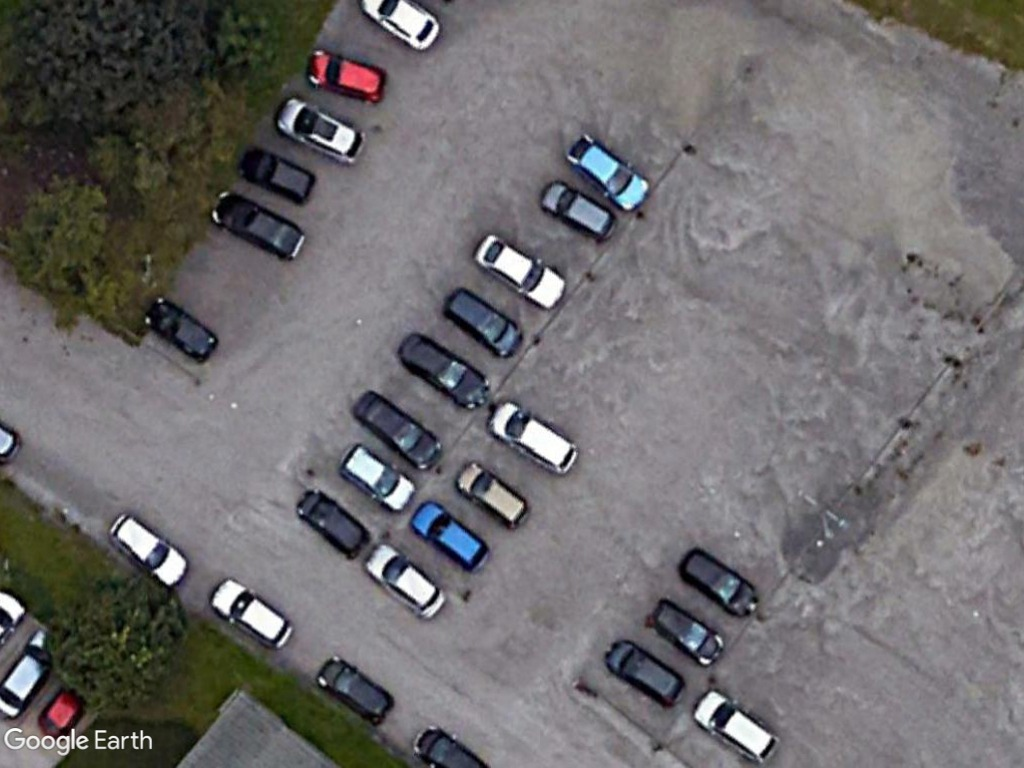car: (205, 185, 309, 264), (350, 390, 445, 475), (396, 331, 495, 411), (561, 131, 652, 215), (485, 400, 583, 477), (269, 93, 370, 167), (473, 230, 568, 308), (691, 688, 782, 766), (102, 511, 191, 590), (674, 541, 759, 621), (365, 536, 446, 619), (443, 282, 527, 361), (290, 486, 375, 564), (315, 653, 401, 729), (209, 579, 297, 653), (602, 636, 687, 708), (651, 594, 731, 670), (336, 436, 416, 512), (410, 497, 492, 571), (140, 294, 225, 365), (452, 459, 532, 532), (303, 45, 394, 107), (235, 141, 323, 205), (540, 177, 617, 241), (355, 0, 441, 56)
